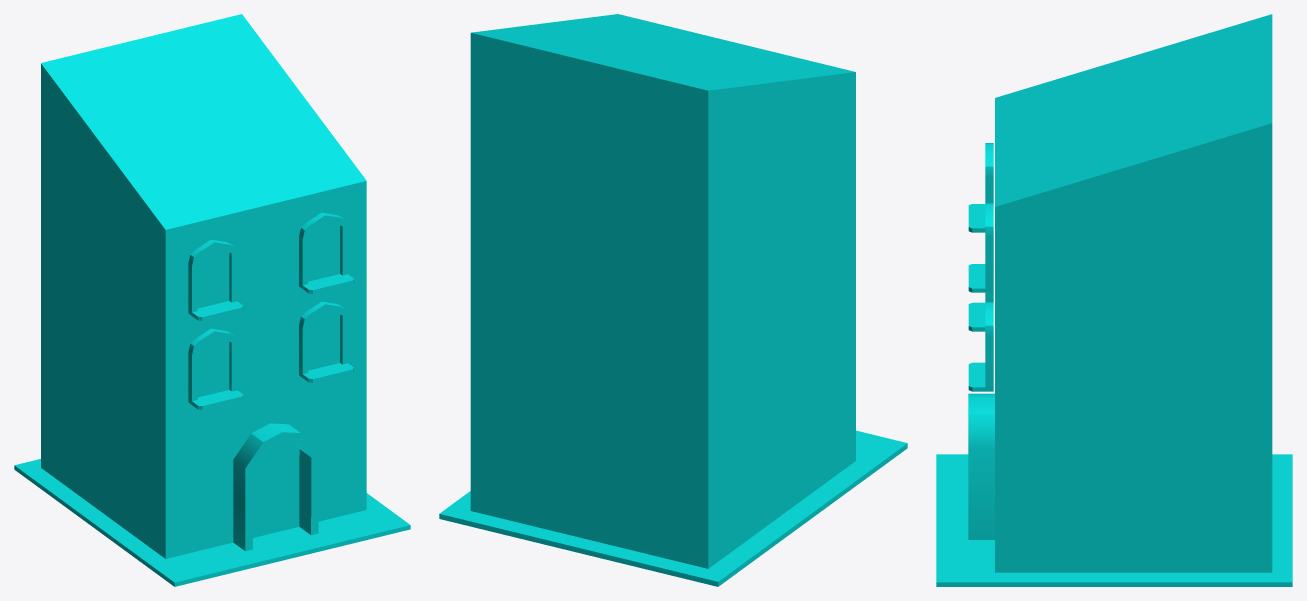
Rendered from Predio 3.fbx.
3 renders of one model, left to right at view 1: azimuth 30°, elevation 25°; view 2: azimuth 150°, elevation 25°; view 3: azimuth 270°, elevation 25°, orthographic. The views are drawn at different scales.
Parts seen in each view (by area): view 1: pCube178; view 2: pCube178; view 3: pCube178.
Part boxes in pixels (left/top/right/bottom): pCube178: left=14, top=14, right=410, bottom=586; pCube178: left=439, top=14, right=907, bottom=586; pCube178: left=936, top=14, right=1292, bottom=586.
Bounding box in the file's own units: 643 × 1064 × 756.
